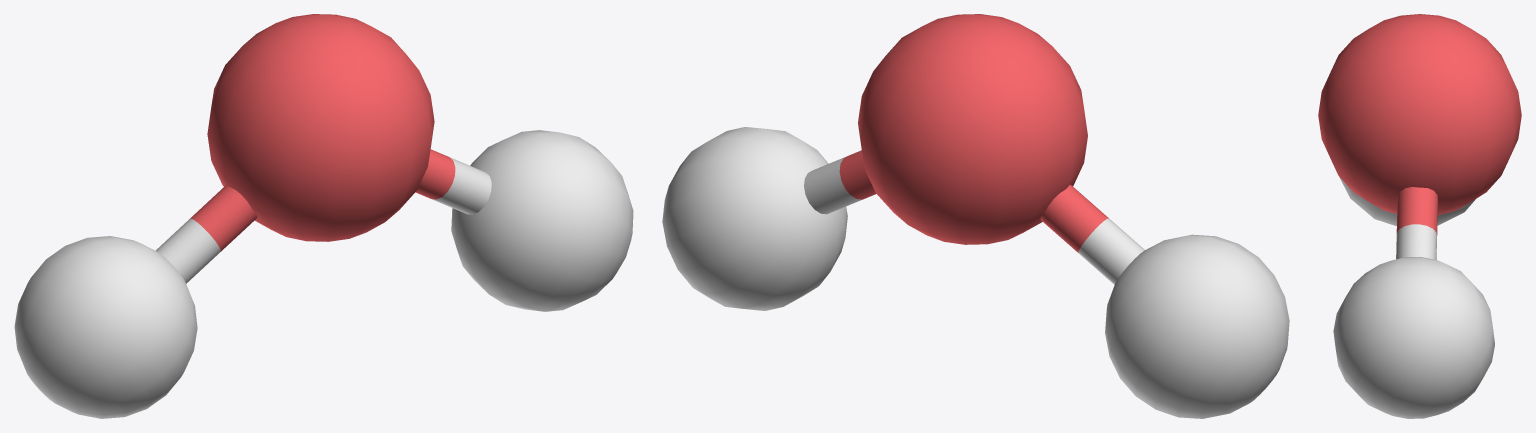
File: 02_Agua.fbx
3 views of the same model, side by side, from view 1: azimuth 30°, elevation 25°; view 2: azimuth 150°, elevation 25°; view 3: azimuth 270°, elevation 25° (orthographic). The views are drawn at different scales.
Parts seen in each view (by area): view 1: m_agua; view 2: m_agua; view 3: m_agua.
Part boxes in pixels (x1,y1,x2,y2): m_agua: (14, 14, 633, 418); m_agua: (662, 14, 1289, 418); m_agua: (1318, 14, 1521, 418).
Size of the model in its own units: 600 by 318 by 200.
